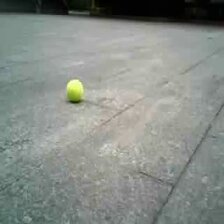tennis: (66, 79, 83, 101)
